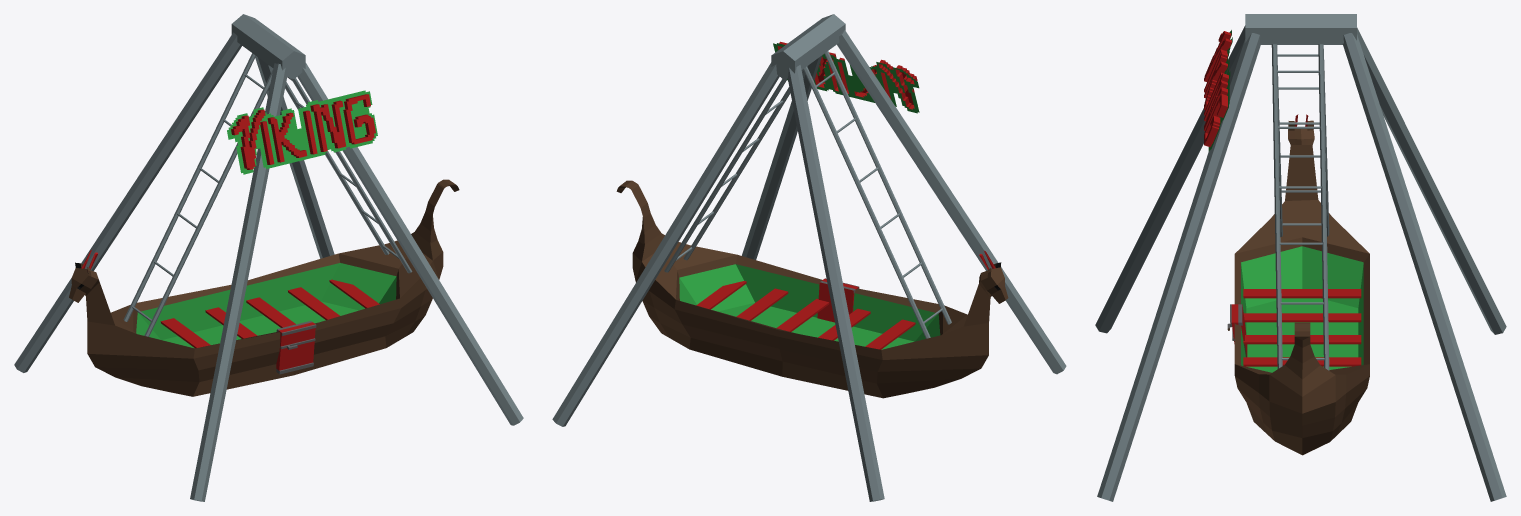
File: Viking.V2.fbx
3 renders of one model, left to right at view 1: azimuth 30°, elevation 25°; view 2: azimuth 150°, elevation 25°; view 3: azimuth 270°, elevation 25°, orthographic. The views are drawn at different scales.
Parts seen in each view (by area): view 1: kehikko.001; view 2: kehikko.001; view 3: kehikko.001.
Part boxes in pixels (x1,y1,x2,y2): kehikko.001: [14, 14, 523, 501]; kehikko.001: [552, 14, 1066, 501]; kehikko.001: [1095, 14, 1506, 501].
Bounding box in the file's own units: 1756 × 1471 × 1591.
